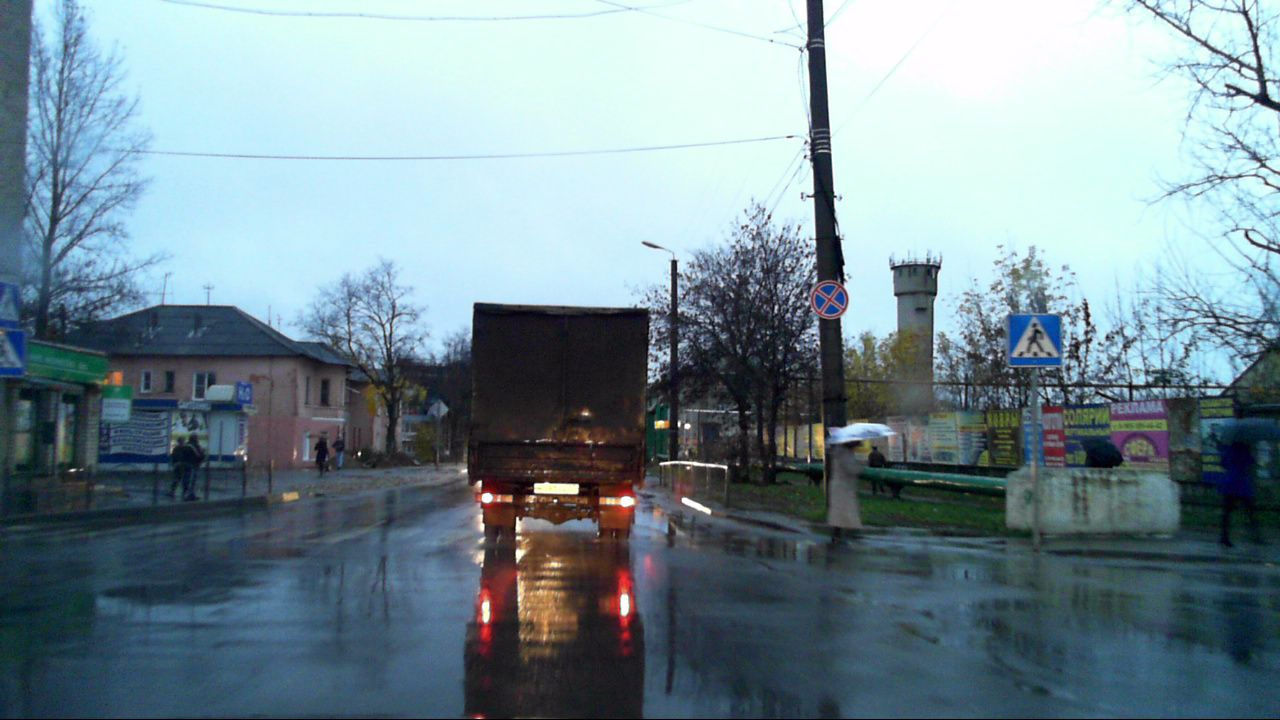No Parking: (810, 279, 849, 318)
